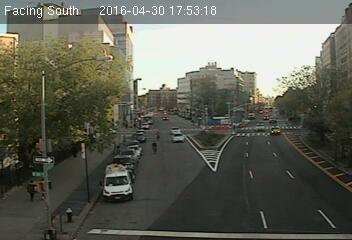neg: (268, 125, 280, 141), (149, 140, 160, 155), (198, 131, 208, 144), (153, 129, 162, 142)
pos: (20, 176, 40, 203), (33, 176, 53, 203)
